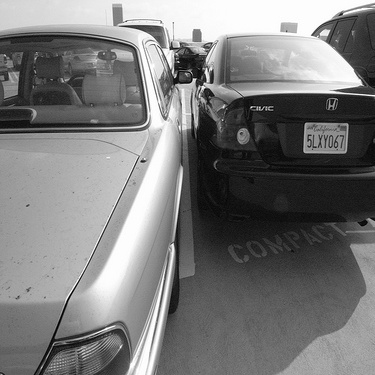car: (1, 10, 192, 355), (198, 20, 368, 217), (92, 4, 186, 73), (291, 3, 375, 80), (175, 36, 218, 60)
